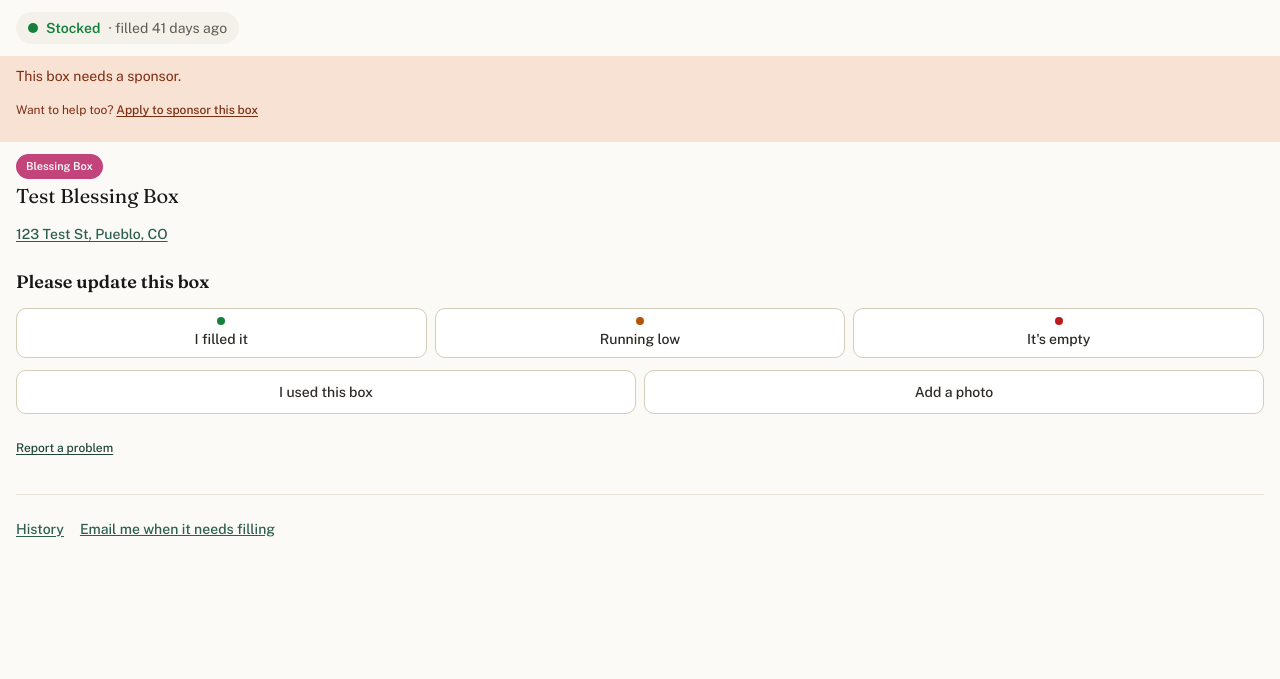
it: BoxCardBody — sponsor band (always present, 3 adopter-count states) › the adopt link expands AdoptBoxForm in place
This screenshot has width=1280, height=679.
Step 1. Click the button "Apply to sponsor this box" → (187,110), box 116,88 -> 258,132
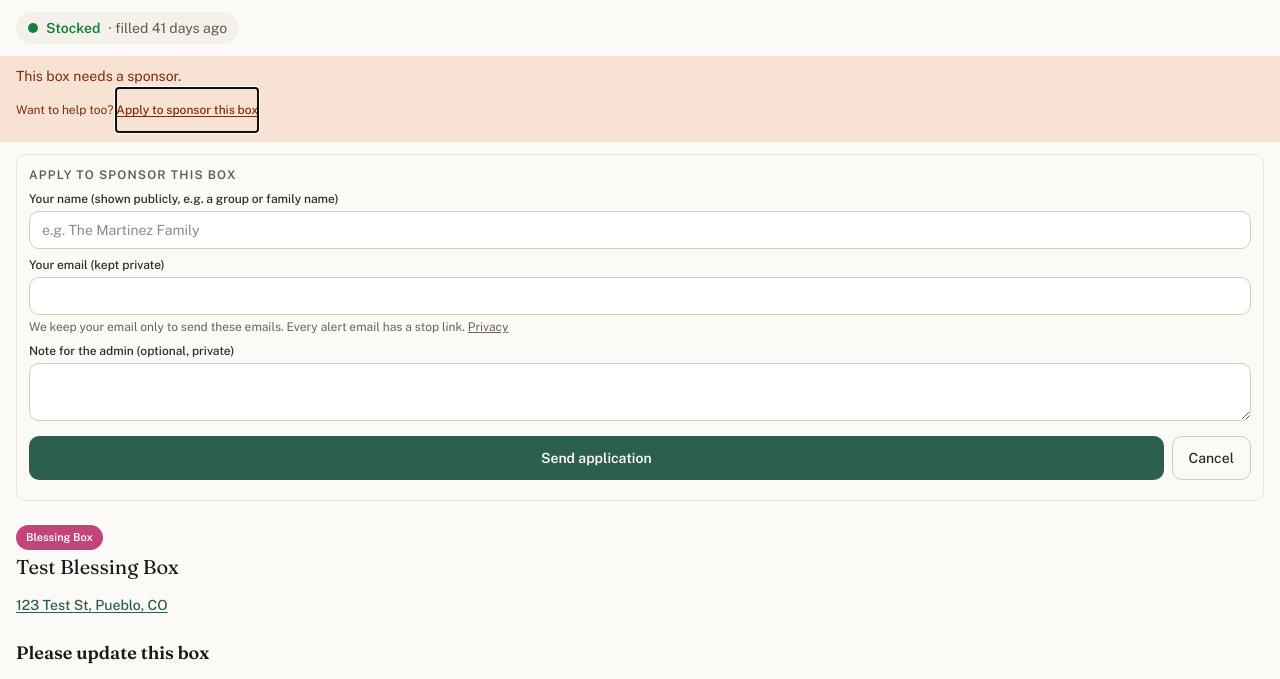
Now the field labelled "Your name (shown publicly, e.g. a group or family name)" is shown, box 29,211 -> 1251,249
